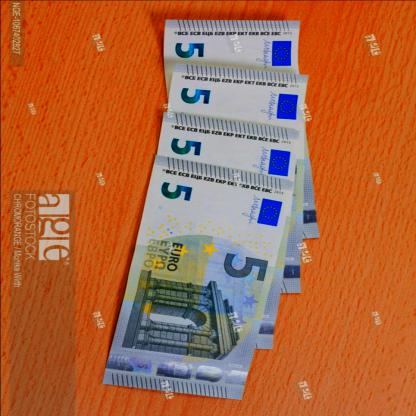euro_banknote: (81, 212, 320, 354), (107, 158, 331, 303), (123, 107, 347, 252), (166, 16, 300, 86)
